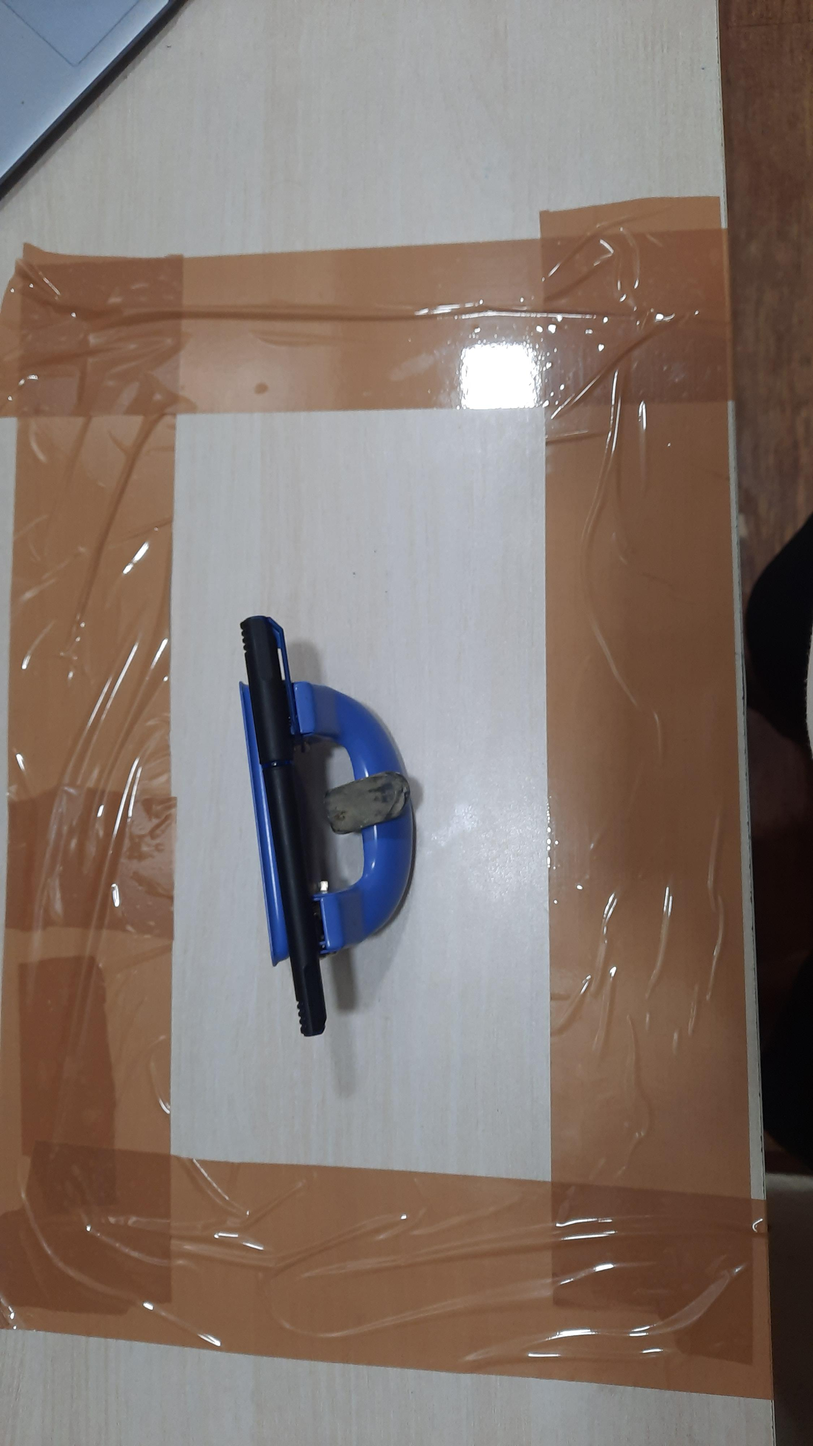Eraser: (323, 770, 410, 835)
Pen: (240, 616, 327, 1038)
Punch: (238, 680, 416, 967)
